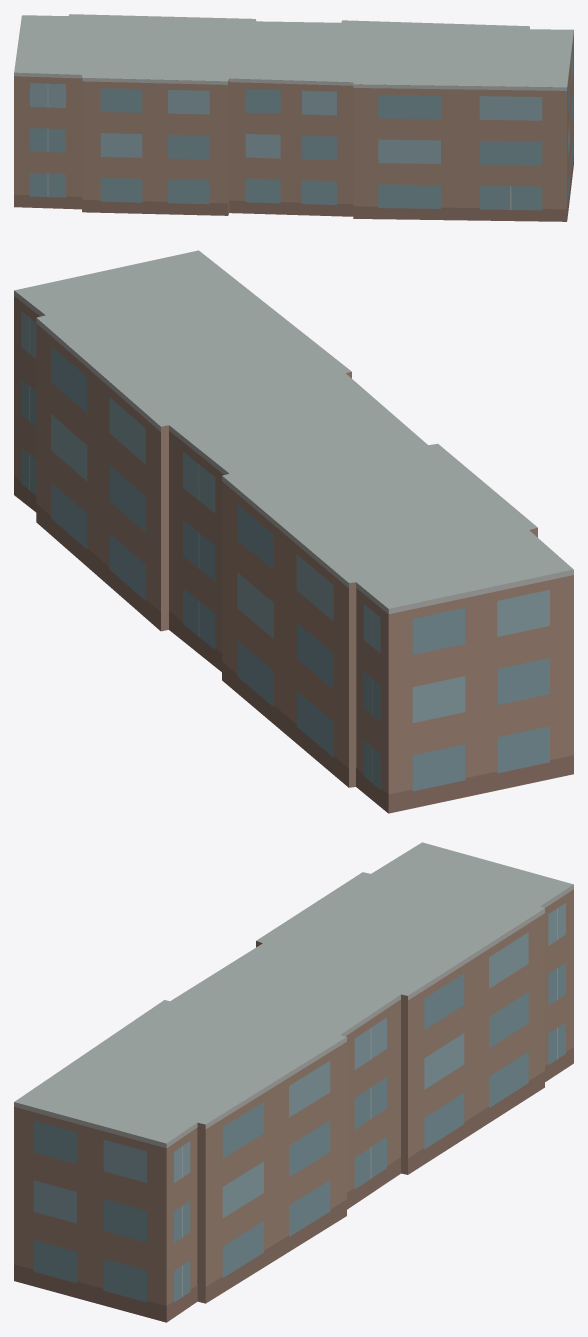
Rendered from survey-upis-32880137.glb.
3 renders of one model, top to bottom at view 1: azimuth 30°, elevation 25°; view 2: azimuth 150°, elevation 25°; view 3: azimuth 270°, elevation 25°, orthographic. The views are drawn at different scales.
Visible parts, largest first — view 1: survey-upis-32880137.tmp; view 2: survey-upis-32880137.tmp; view 3: survey-upis-32880137.tmp.
Part boxes in pixels (x1=…): survey-upis-32880137.tmp: x1=14, y1=14, x2=573, y2=221; survey-upis-32880137.tmp: x1=14, y1=250, x2=573, y2=813; survey-upis-32880137.tmp: x1=14, y1=842, x2=573, y2=1322.
Bounding box in the file's own units: 33.03 × 9.15 × 25.94.
